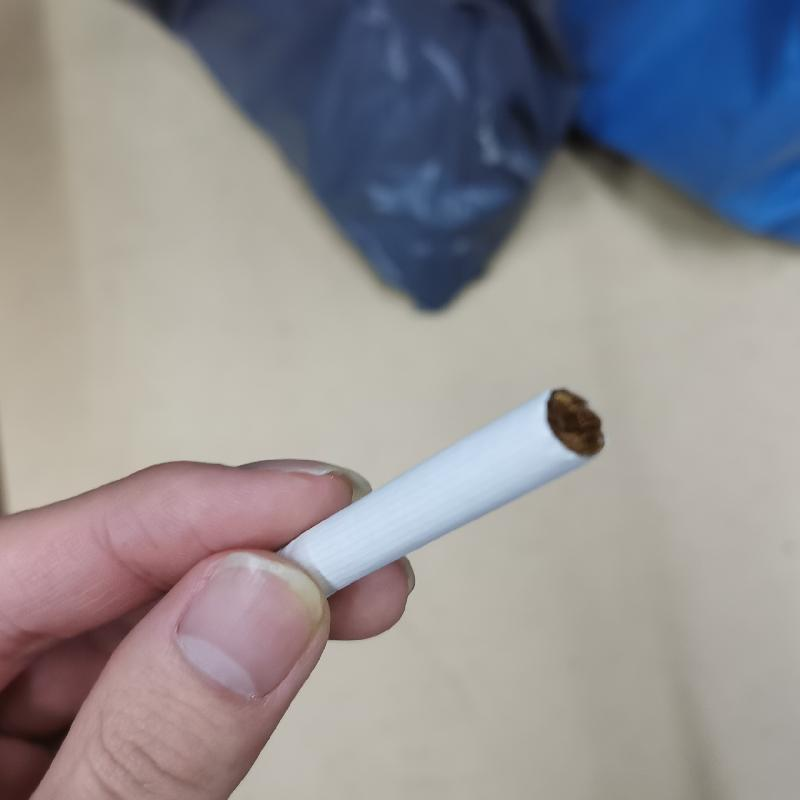cigarette: (237, 385, 609, 598)
